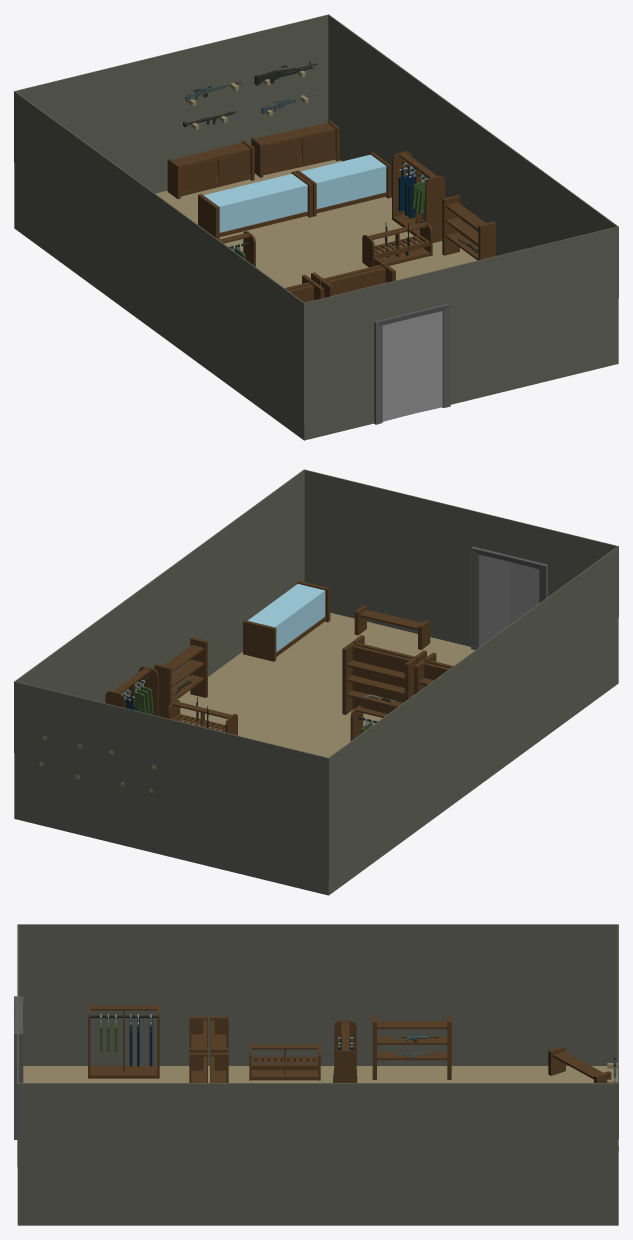
3 views of the same model, one above another, from view 1: azimuth 30°, elevation 25°; view 2: azimuth 150°, elevation 25°; view 3: azimuth 270°, elevation 25° (orthographic). The views are drawn at different scales.
Visible parts, largest first — view 1: Plane, Cube.007, Cube.020, Cube.005, Cube.027, Cube.006, Cube.003, Cube.001, Cube.023, Cube.029; view 2: Plane, Cube.028, Cube.024, Cube.003, Cube.005, Cube.030, Cube.001, Cube.022, Cube.029; view 3: Plane, Cube.021, Cube.026, Cube.025, Cube.029, Cube.004, Cube.002, Cube.022, Cube.023, Cube.024.
Boxes of the visible parts, x1,y1,x2,y2 form: Plane: (14,14,618,440); Cube.007: (198,171,312,239); Cube.020: (295,152,390,216); Cube.005: (392,151,445,242); Cube.027: (167,140,254,199); Cube.006: (251,120,339,177); Cube.003: (442,195,495,260); Cube.001: (362,221,432,267); Cube.023: (321,264,395,297); Cube.029: (219,231,255,266); Plane: (14,469,618,895); Cube.028: (243,580,330,661); Cube.024: (342,642,417,714); Cube.003: (154,637,207,718); Cube.005: (105,666,158,716); Cube.030: (354,605,430,649); Cube.001: (167,700,237,735); Cube.022: (414,660,449,694); Cube.029: (350,705,387,740); Plane: (14,924,618,1225); Cube.021: (88,1004,159,1078); Cube.026: (372,1014,451,1079); Cube.025: (249,1043,320,1080); Cube.029: (333,1020,357,1082); Cube.004: (548,1046,611,1082); Cube.002: (189,1016,207,1052); Cube.022: (210,1016,228,1052); Cube.023: (189,1052,207,1082); Cube.024: (210,1052,228,1082).
Size of the model in its own units: 1011 by 421 by 1622.
